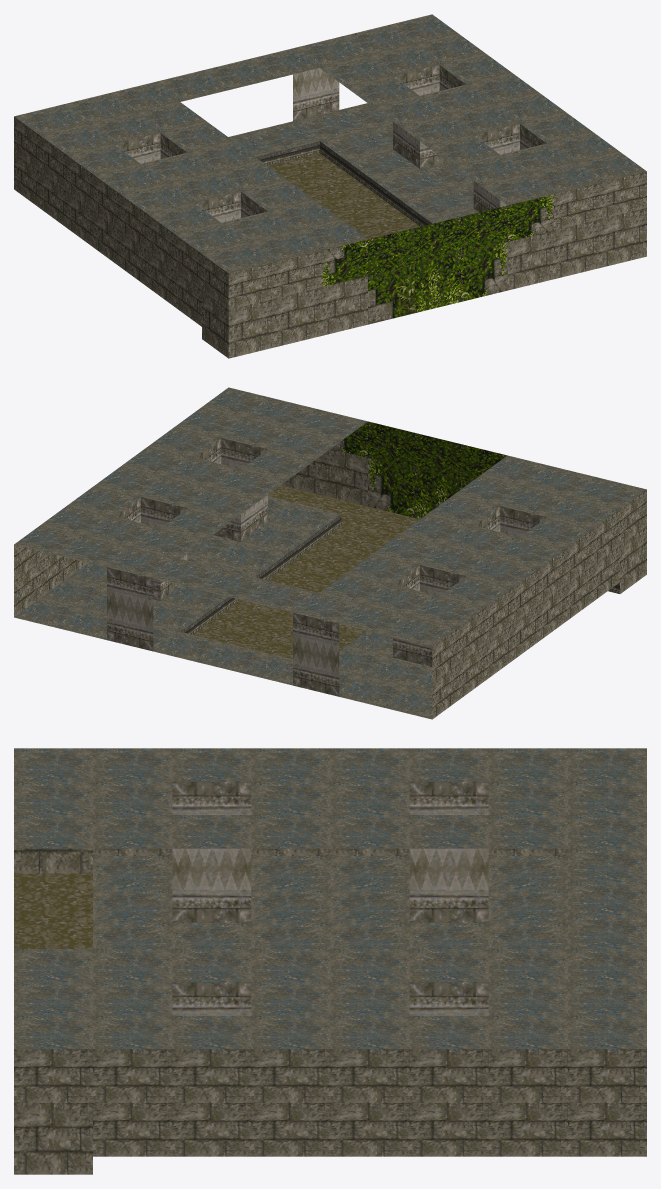
The model's file is room26.obj.
3 renders of one model, top to bottom at view 1: azimuth 30°, elevation 25°; view 2: azimuth 150°, elevation 25°; view 3: azimuth 270°, elevation 25°, orthographic. The views are drawn at different scales.
Visible parts, largest first — view 1: 01-Caves.026; view 2: 01-Caves.026; view 3: 01-Caves.026.
Part boxes in pixels (x1,y1,x2,y2): 01-Caves.026: [14, 14, 646, 358]; 01-Caves.026: [14, 387, 646, 719]; 01-Caves.026: [14, 748, 646, 1174].
Size of the model in its own units: 90 by 17.5 by 80.
1 material, 1 textured.
